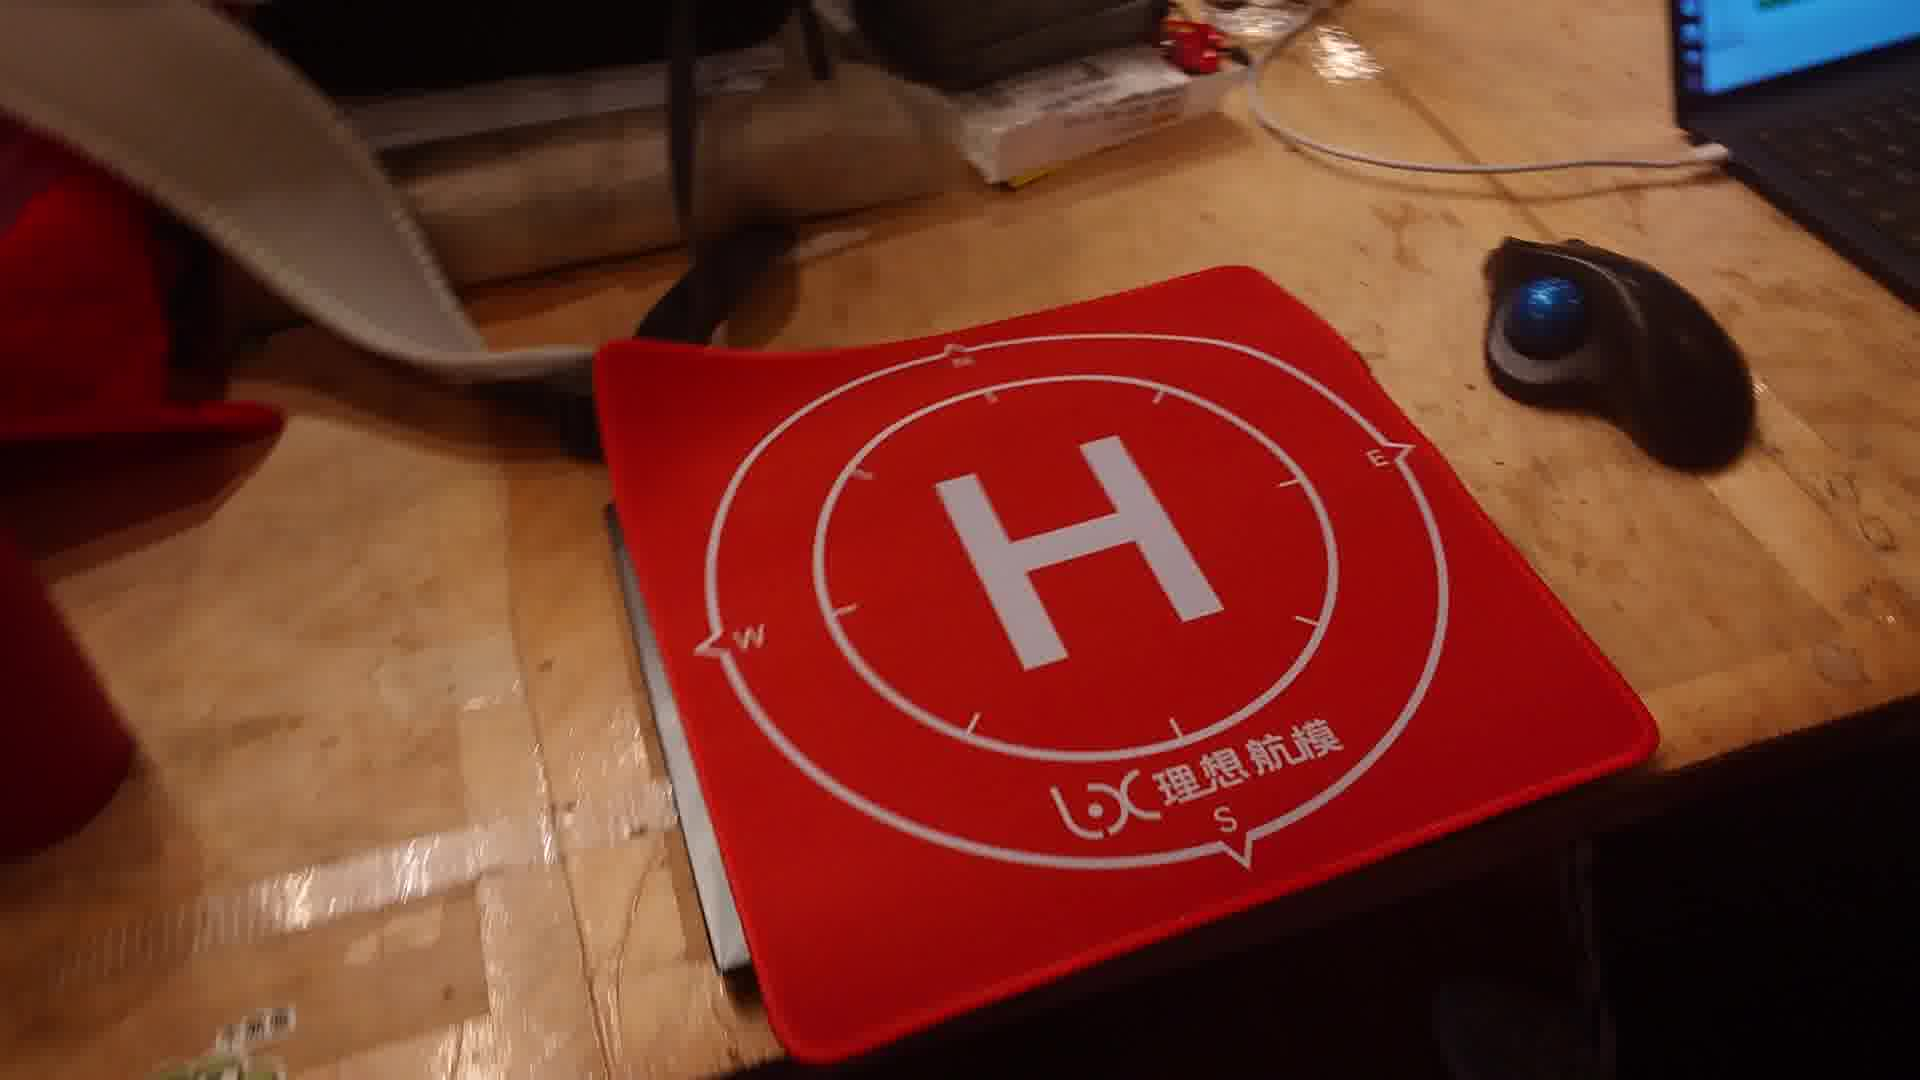H: (935, 433, 1229, 676)
